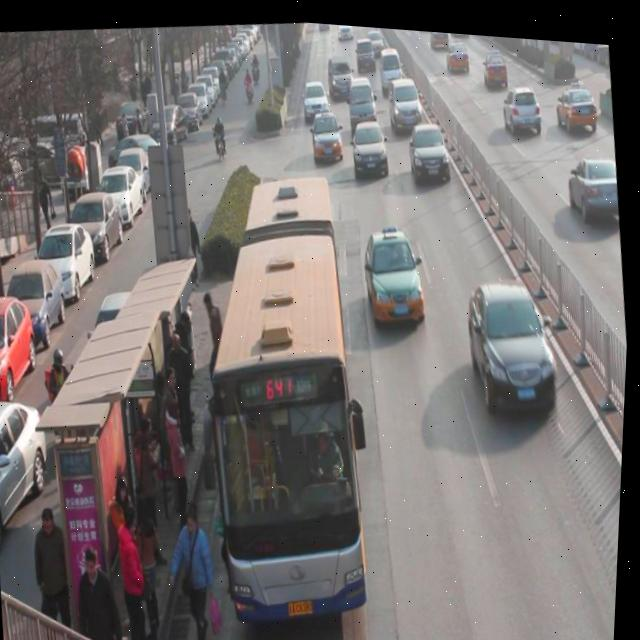car: (464, 265, 567, 410), (361, 219, 432, 325), (566, 142, 623, 221), (406, 113, 454, 181), (554, 69, 601, 129), (499, 73, 544, 130), (351, 113, 391, 173), (386, 71, 425, 125), (309, 104, 346, 159), (301, 74, 332, 117), (326, 50, 356, 94), (482, 41, 510, 81), (443, 31, 472, 68), (353, 29, 377, 67), (366, 22, 384, 52)
truck: (347, 72, 379, 126), (377, 40, 404, 88)
van: (184, 163, 387, 624)
